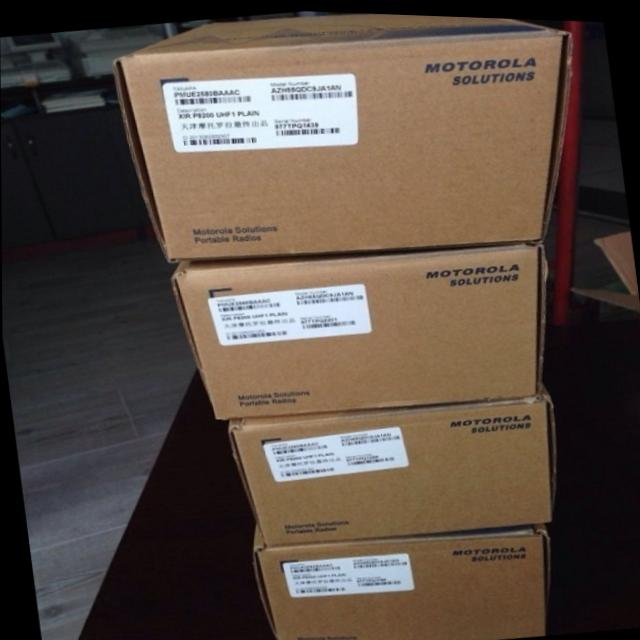box: (114, 11, 573, 262), (169, 238, 548, 417), (228, 382, 556, 544), (252, 519, 550, 640)
